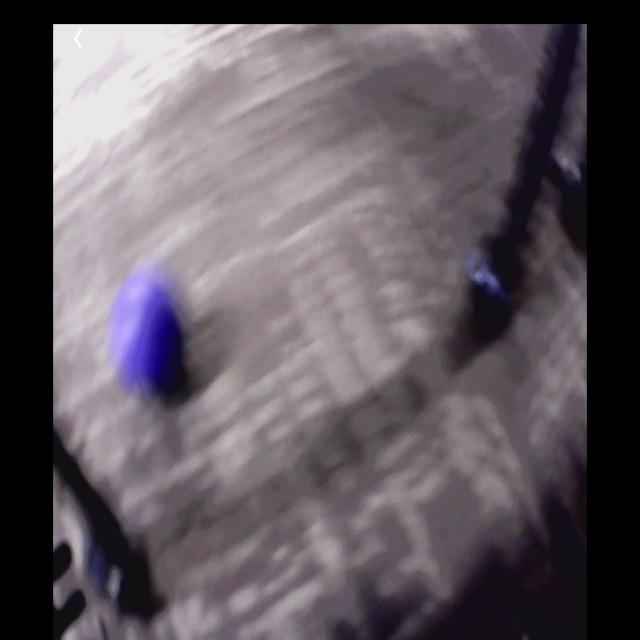ball: (113, 273, 190, 396)
